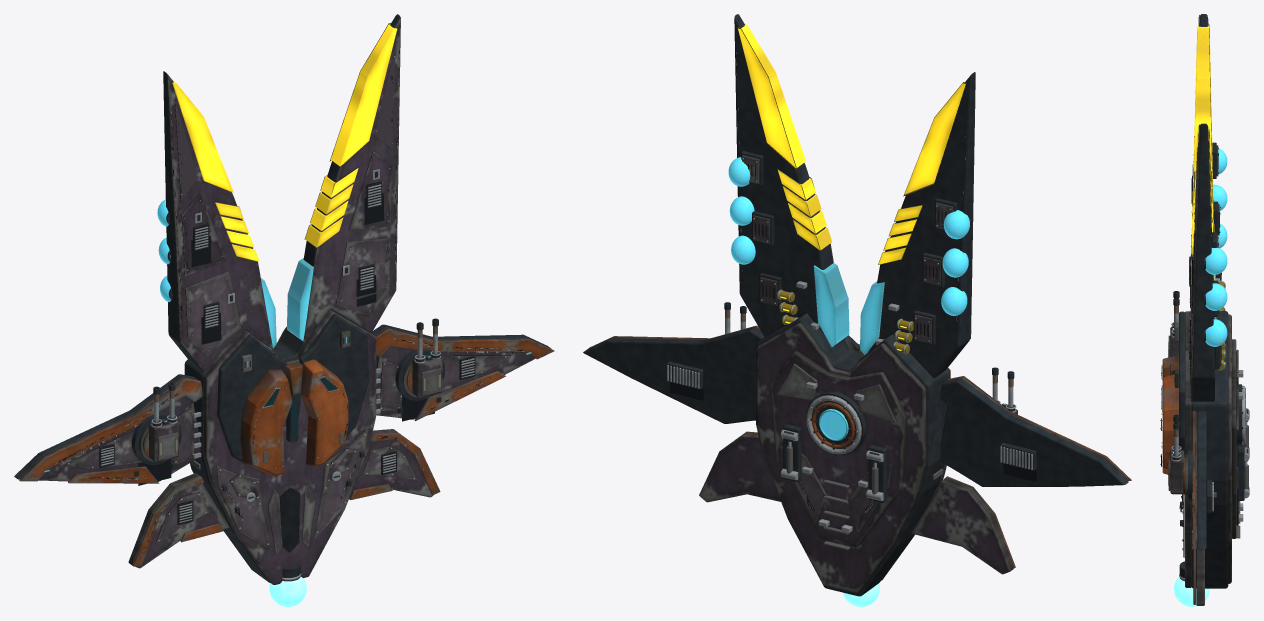
File: nave-v7-web.glb
3 views of the same model, side by side, from view 1: azimuth 30°, elevation 25°; view 2: azimuth 150°, elevation 25°; view 3: azimuth 270°, elevation 25° (orthographic). The views are drawn at different scales.
Visible parts, largest first — view 1: NAVE V7 | casco 3D web; view 2: NAVE V7 | casco 3D web; view 3: NAVE V7 | casco 3D web.
Part boxes in pixels (x1,y1,x2,y2): NAVE V7 | casco 3D web: (14,14,554,606); NAVE V7 | casco 3D web: (583,14,1131,606); NAVE V7 | casco 3D web: (1160,14,1249,606).
Size of the model in its own units: 14.55 by 14.49 by 2.18.
1 material, 1 textured.
